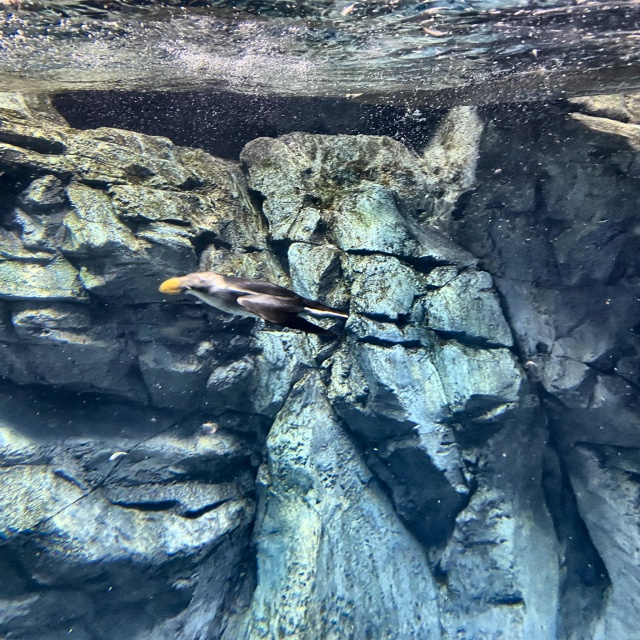puffin: (158, 269, 352, 333)
